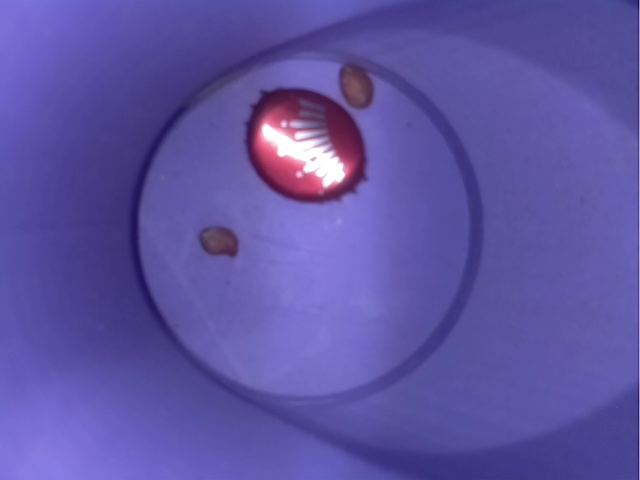capsule: (235, 80, 376, 213)
croquette: (318, 51, 386, 108), (182, 214, 246, 271)
